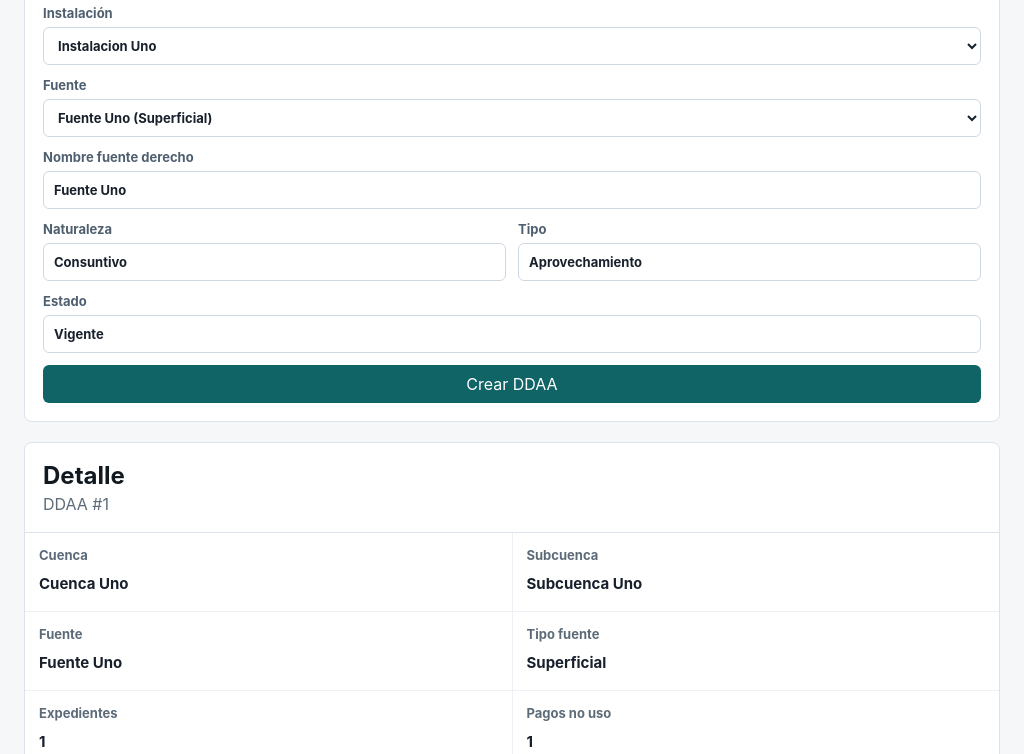
Test case: HomePage › should create DDAA using default catalog values
(page scrolled)
# el formulario ya queda precargado con catálogos mínimos.
Click the button "Crear DDAA". click: [512, 384]
box: [43,365,981,403]
(page scrolled)
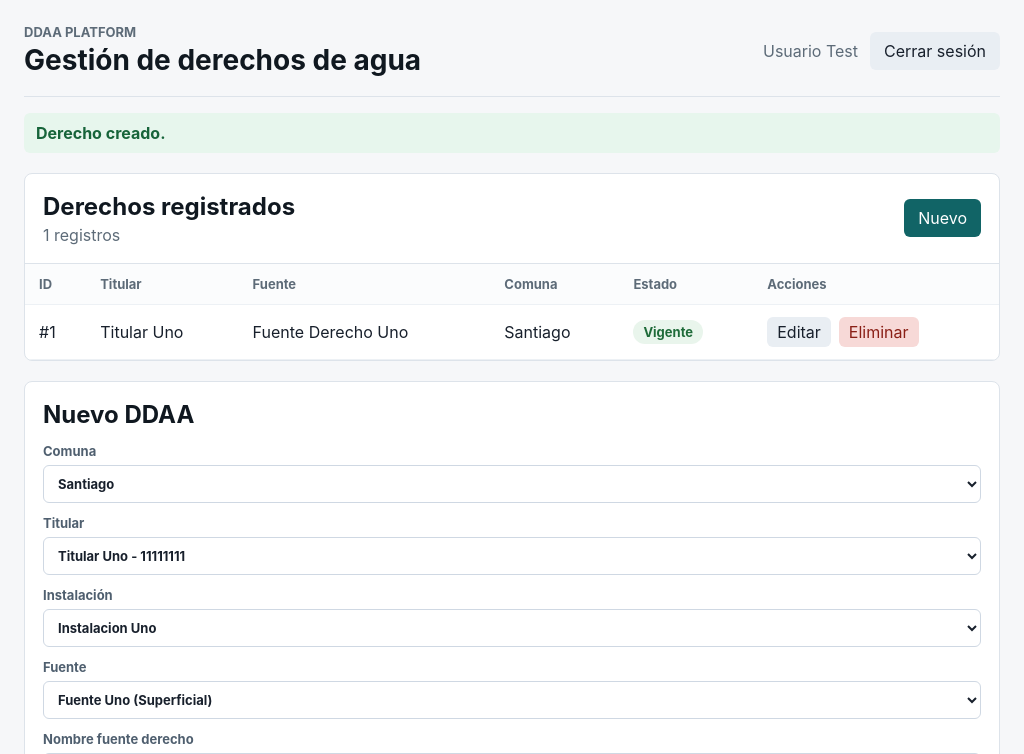
Result: the text "Derecho creado." is shown at [24,113,1000,153]
